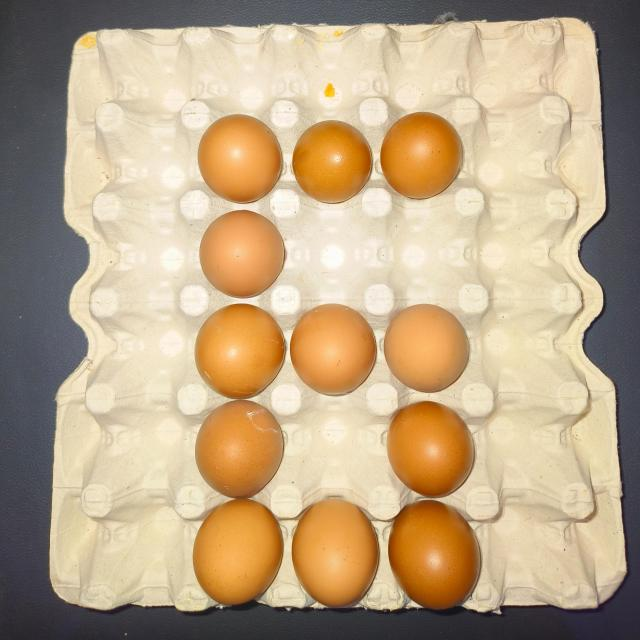Eggs: (388, 508, 482, 608), (195, 500, 289, 596), (292, 298, 378, 398), (388, 302, 478, 397), (301, 488, 374, 605), (390, 402, 479, 494), (198, 404, 286, 496), (205, 211, 287, 305), (199, 308, 281, 402), (197, 115, 275, 208), (392, 109, 463, 206), (292, 123, 366, 209)
